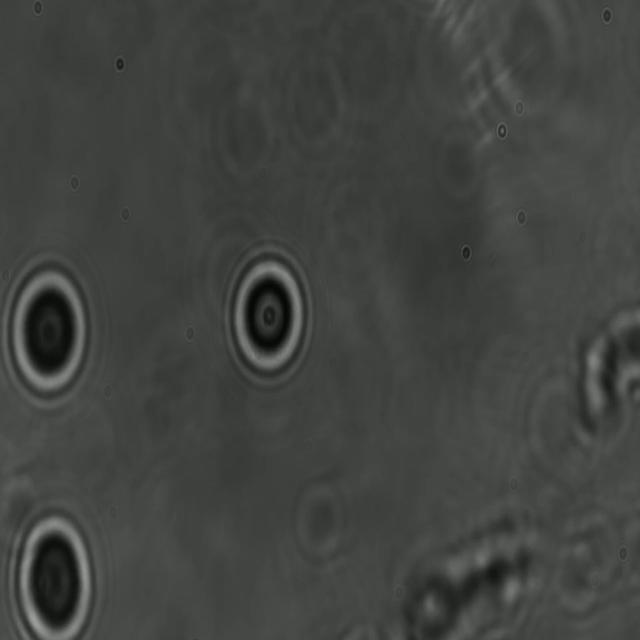LCELL: (219, 240, 317, 396)
